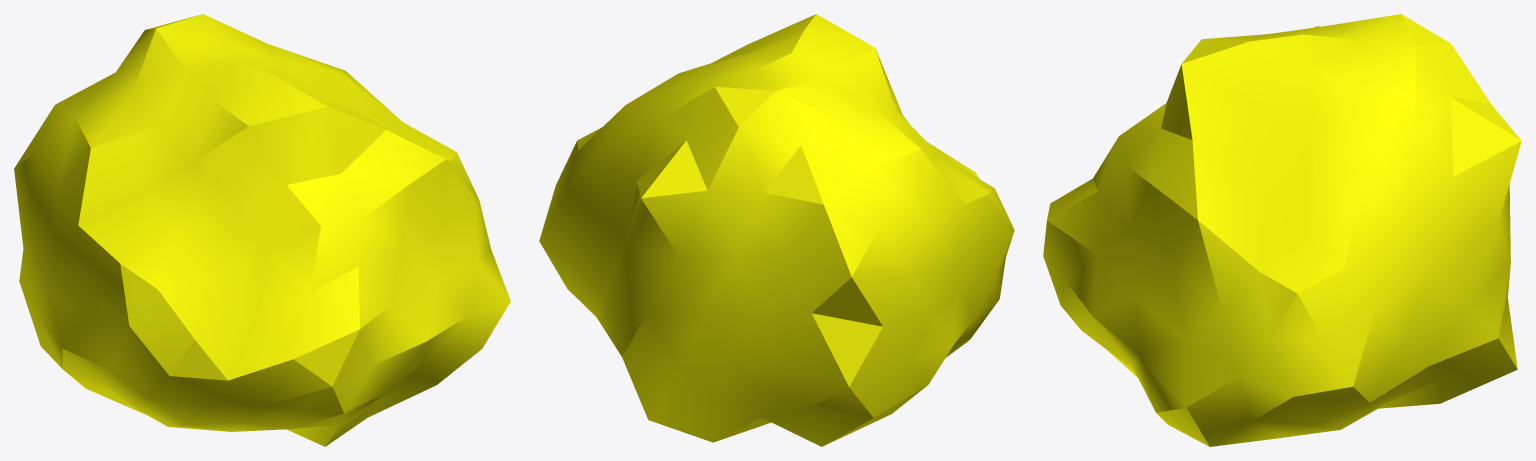
Rendered from kaykit-rock-3-q-color-1.glb.
3 views of the same model, side by side, from view 1: azimuth 30°, elevation 25°; view 2: azimuth 150°, elevation 25°; view 3: azimuth 270°, elevation 25° (orthographic). The views are drawn at different scales.
Visible parts, largest first — view 1: Rock_3_Q_Color1; view 2: Rock_3_Q_Color1; view 3: Rock_3_Q_Color1.
Part boxes in pixels (x1,y1,x2,y2): Rock_3_Q_Color1: [14, 14, 510, 446]; Rock_3_Q_Color1: [539, 14, 1014, 446]; Rock_3_Q_Color1: [1043, 14, 1521, 446].
Bounding box in the file's own units: 4.65 × 3.72 × 4.48.
